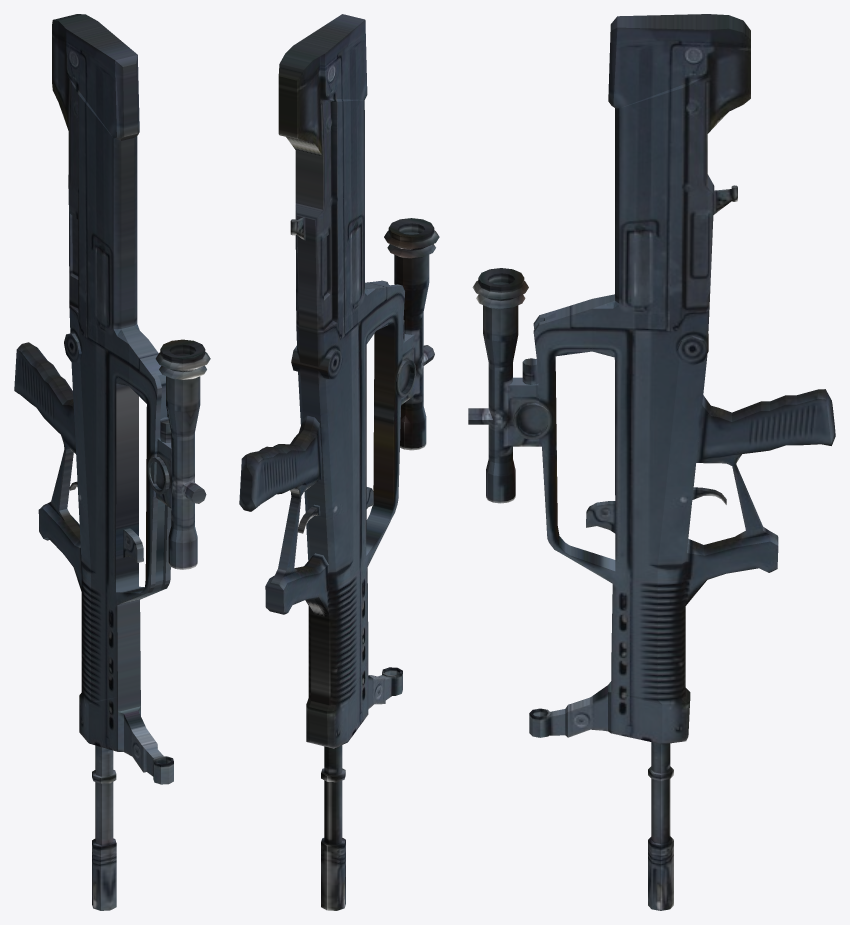
The model's file is type95_1554_wtf.obj.
The picture shows the model from 3 angles, left to right: view 1: azimuth 30°, elevation 25°; view 2: azimuth 150°, elevation 25°; view 3: azimuth 270°, elevation 25°; orthographic projection. The views are drawn at different scales.
Parts seen in each view (by area): view 1: group2; view 2: group2; view 3: group2.
Boxes of the visible parts, bbox=[...] form: group2: bbox=[14, 14, 210, 910]; group2: bbox=[239, 14, 439, 910]; group2: bbox=[468, 14, 835, 910].
Bounding box in the file's own units: 38.26 × 660 × 249.
